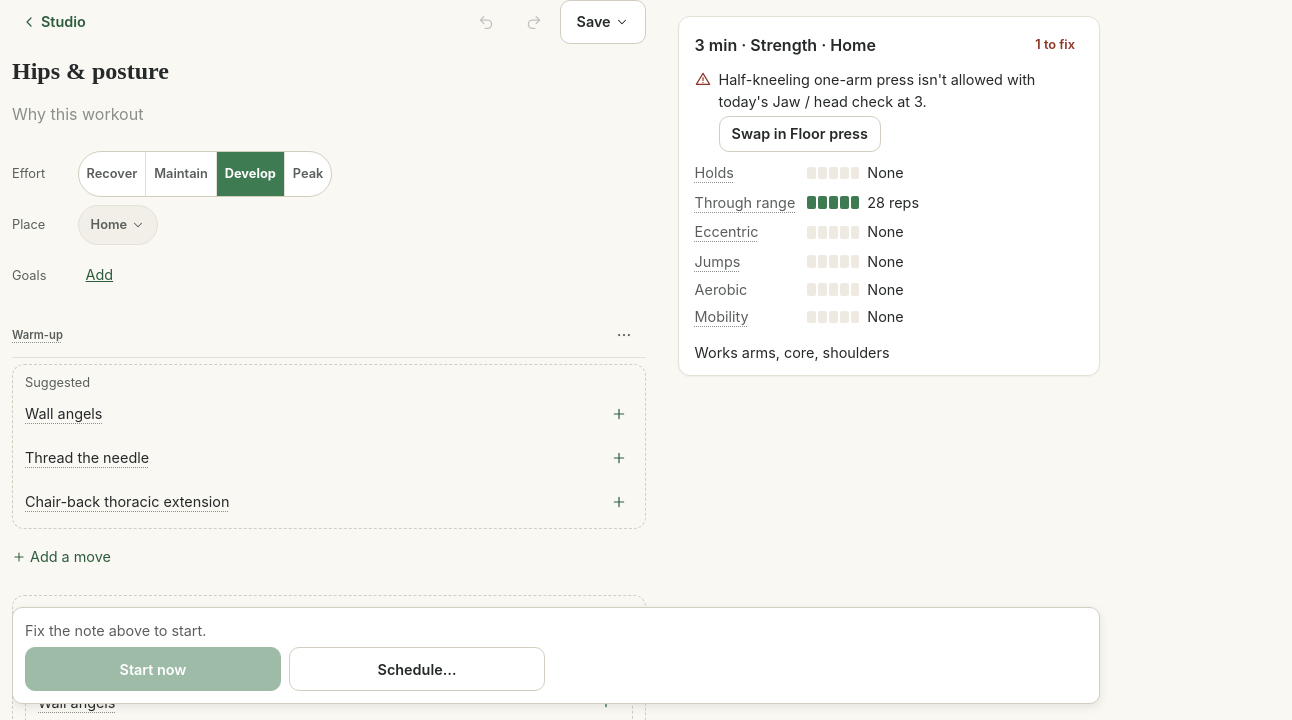
Scenario: an error › keeps Start off — its reason Start's own description — and Fix swaps in the alternate and Start comes on
The width and height of the screenshot is (1292, 720).
Expected: the button with class "stu-build-start" is disabled, 25,647 -> 281,691
Click the button "Swap in Floor press": coordinates (800, 134) 719,116 -> 881,152
(page scrolled)
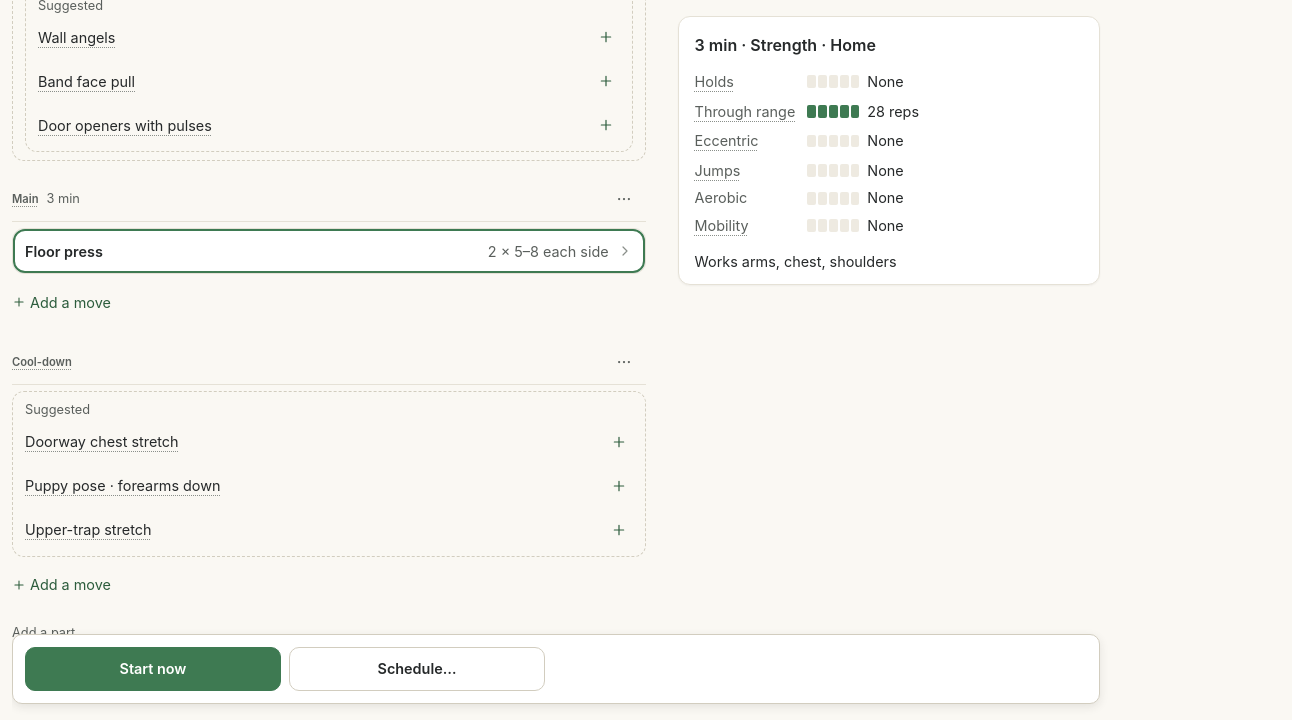
Now the button "Start now" is enabled, box 25,647 -> 281,691
Now the text "Half-kneeling one-arm press isn't allowed with today's Jaw / head check at 3." is gone
